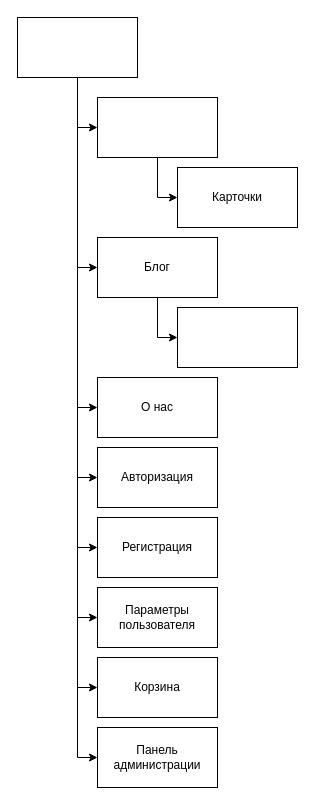
Some shapes in this 315 by 805 pixel diagram are drawn without their labels. The centre of each missing label's shape, as x and y in pixels:
"Главная" belongs at pixel 77 47.
"Магазин" belongs at pixel 157 127.
"Статьи" belongs at pixel 237 337.
